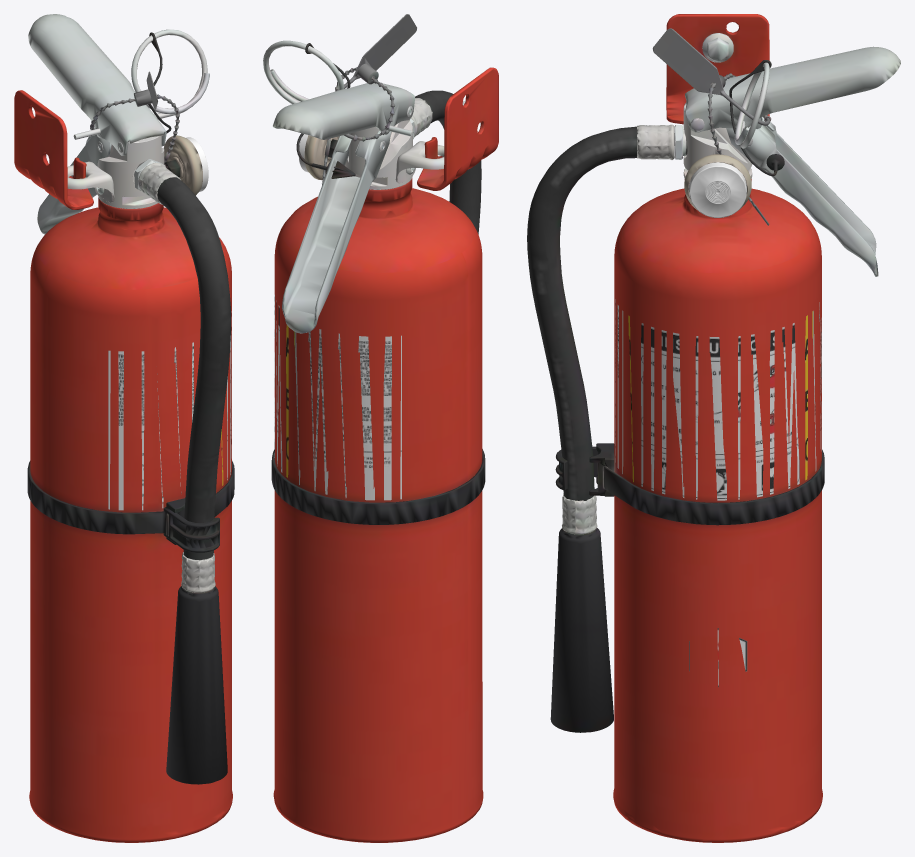
File: extinguisher.glb
3 renders of one model, left to right at view 1: azimuth 30°, elevation 25°; view 2: azimuth 150°, elevation 25°; view 3: azimuth 270°, elevation 25°, orthographic. The views are drawn at different scales.
Visible parts, largest first — view 1: body_01_mesh_00; view 2: body_01_mesh_00; view 3: body_01_mesh_00, glass_01_mesh_00.
Part boxes in pixels (x1,y1,x2,y2): body_01_mesh_00: (14, 14, 234, 842); body_01_mesh_00: (263, 14, 498, 842); body_01_mesh_00: (527, 14, 900, 842); glass_01_mesh_00: (689, 162, 746, 217).
Bounding box in the file's own units: 0.1086 × 0.4172 × 0.184.
3 materials, 2 textured.
